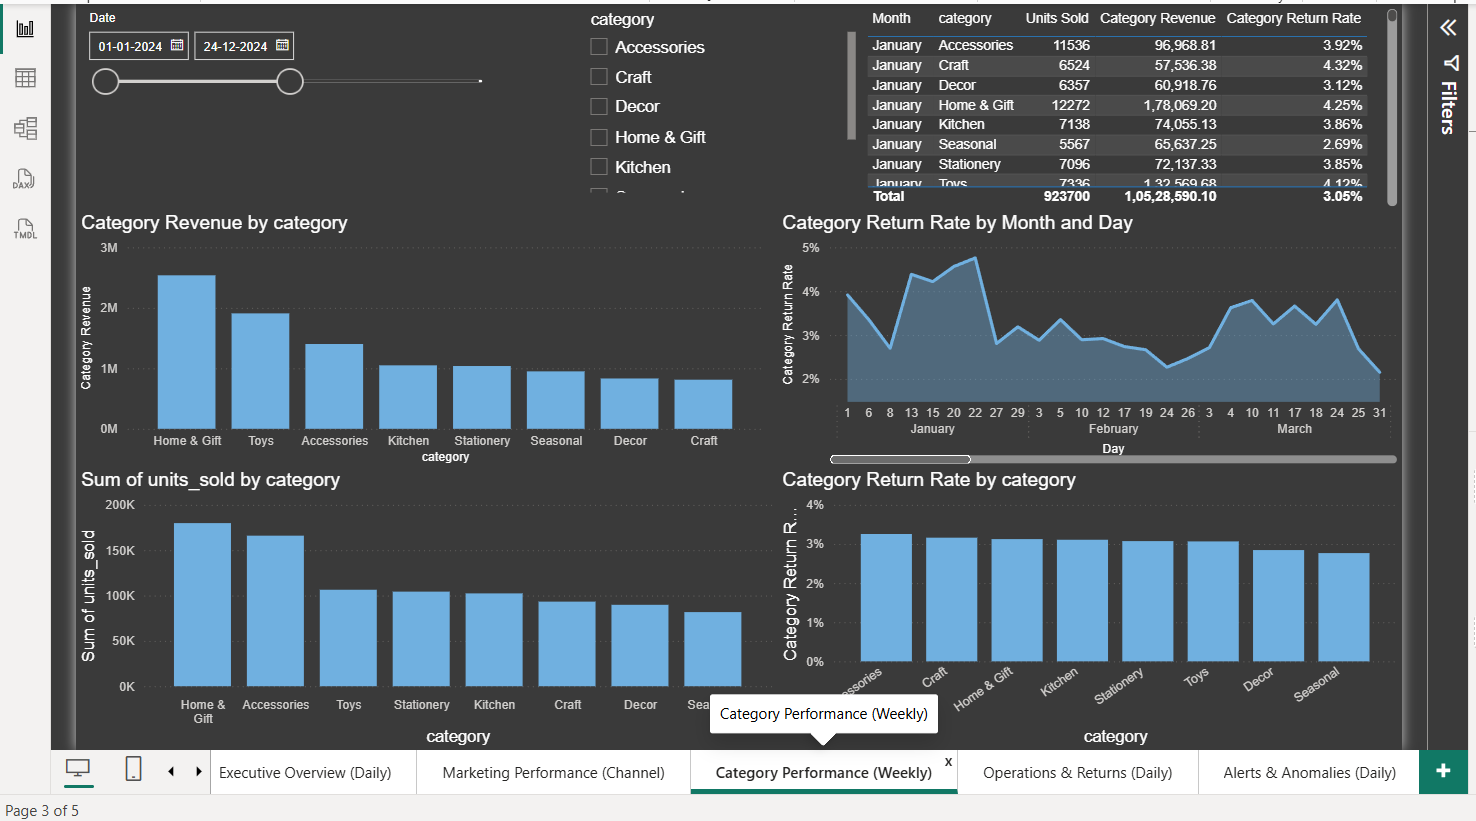

This screenshot's page, from the dashboard's own definition file:
{"tool":"powerbi","page":{"name":"Category Performance (Weekly)","canvas":[1280,720],"ordinal":2},"visuals":[{"type":"slicer","fields":{"Values":["DimDate2.Date"]},"box":[0,1.2,412.6,124.3],"z":1000},{"type":"slicer","fields":{"Values":["gold_weekly_category_kpis.category"]},"box":[483.8,1.2,273.9,185.8],"z":2000},{"type":"columnChart","fields":{"Category":["gold_weekly_category_kpis.category"],"Y":["DimDate2.Category Revenue"]},"box":[0,200.3,668.4,248.5],"z":3000},{"type":"columnChart","fields":{"Category":["gold_weekly_category_kpis.category"],"Y":["Sum(gold_weekly_category_kpis.units_sold)"]},"box":[0,448.8,676.8,271.4],"z":4000},{"type":"columnChart","fields":{"Category":["gold_weekly_category_kpis.category"],"Y":["DimDate2.Category Return Rate"]},"box":[676.8,448.8,603.2,271.4],"z":5000},{"type":"areaChart","fields":{"Category":["gold_weekly_category_kpis.week_start.Variation.Date Hierarchy.Month","gold_weekly_category_kpis.week_start.Variation.Date Hierarchy.Day"],"Y":["DimDate2.Category Return Rate"]},"box":[676.8,200.3,603.2,248.5],"z":6000},{"type":"tableEx","fields":{"Values":["gold_weekly_category_kpis.week_start.Variation.Date Hierarchy.Month","gold_weekly_category_kpis.category","DimDate2.Units Sold","DimDate2.Category Revenue","DimDate2.Category Return Rate"]},"box":[757.6,0,522.4,200.3],"z":7000}]}

Visuals, with their boxes on the page's 1280x720 design canvas (x1, y1, x2, y2). These are canvas units, not pixel positions in the 1476x821 screenshot, which may show the page scaled, cropped or inside an application window:
slicer - DimDate2.Date: bbox=(0, 1, 413, 126)
slicer - gold_weekly_category_kpis.category: bbox=(484, 1, 758, 187)
columnChart - gold_weekly_category_kpis.category x DimDate2.Category Revenue: bbox=(0, 200, 668, 449)
columnChart - gold_weekly_category_kpis.category x Sum(gold_weekly_category_kpis.units_sold): bbox=(0, 449, 677, 720)
columnChart - gold_weekly_category_kpis.category x DimDate2.Category Return Rate: bbox=(677, 449, 1280, 720)
areaChart - gold_weekly_category_kpis.week_start.Variation.Date Hierarchy.Month x gold_weekly_category_kpis.week_start.Variation.Date Hierarchy.Day: bbox=(677, 200, 1280, 449)
tableEx - gold_weekly_category_kpis.week_start.Variation.Date Hierarchy.Month x gold_weekly_category_kpis.category: bbox=(758, 0, 1280, 200)
